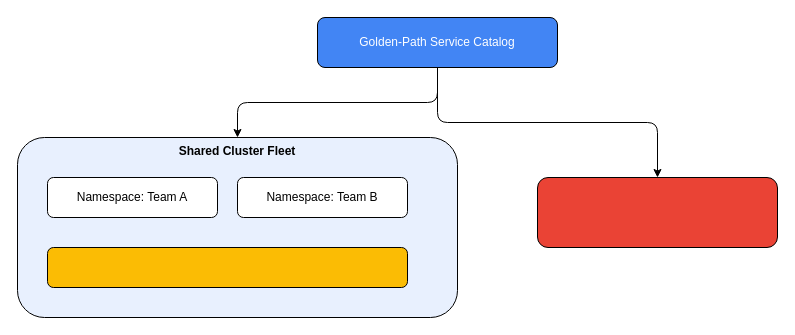
This 795x335 diagram has some shape labels left out. Each missing label, with the centre of its shape:
Dedicated PCI-DSS Cluster (Payments Namespace): point 657,212
Default-Deny Network Policy + Group RBAC + Resource Quotas: point 227,267
